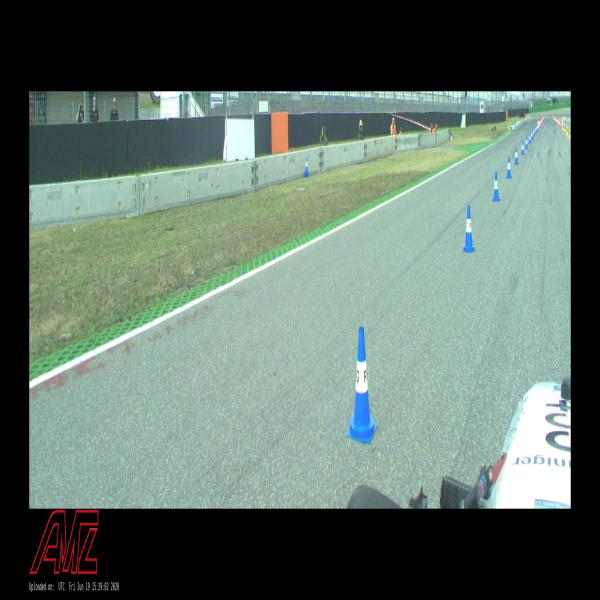blue_cone: (349, 327, 377, 443), (463, 205, 475, 252), (493, 174, 500, 202), (506, 157, 512, 178), (514, 147, 519, 165), (305, 156, 309, 176), (520, 141, 524, 155), (528, 133, 532, 144), (525, 136, 528, 150), (531, 131, 534, 141), (533, 128, 535, 138), (535, 127, 536, 135), (536, 126, 537, 132), (537, 125, 538, 131)
large_orange_cone: (562, 118, 564, 128)
orange_cone: (560, 121, 562, 127)
yellow_cone: (568, 128, 571, 139), (566, 126, 568, 136), (564, 124, 566, 132), (562, 123, 563, 130)
